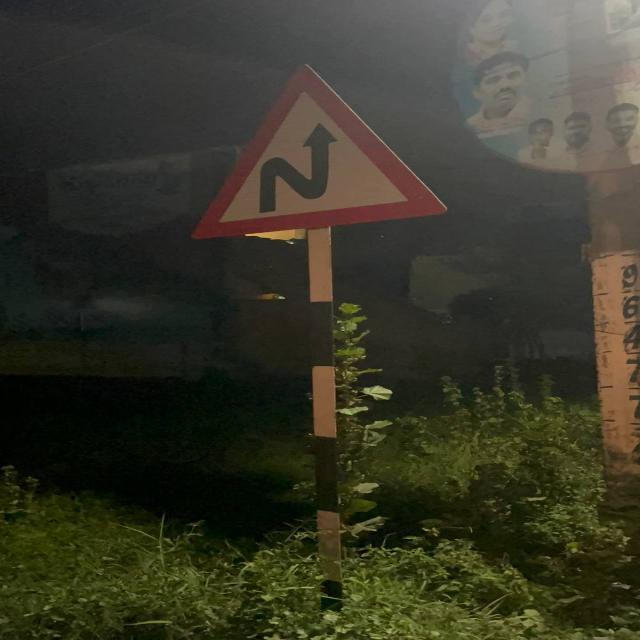right reverse bend: (186, 68, 439, 244)
